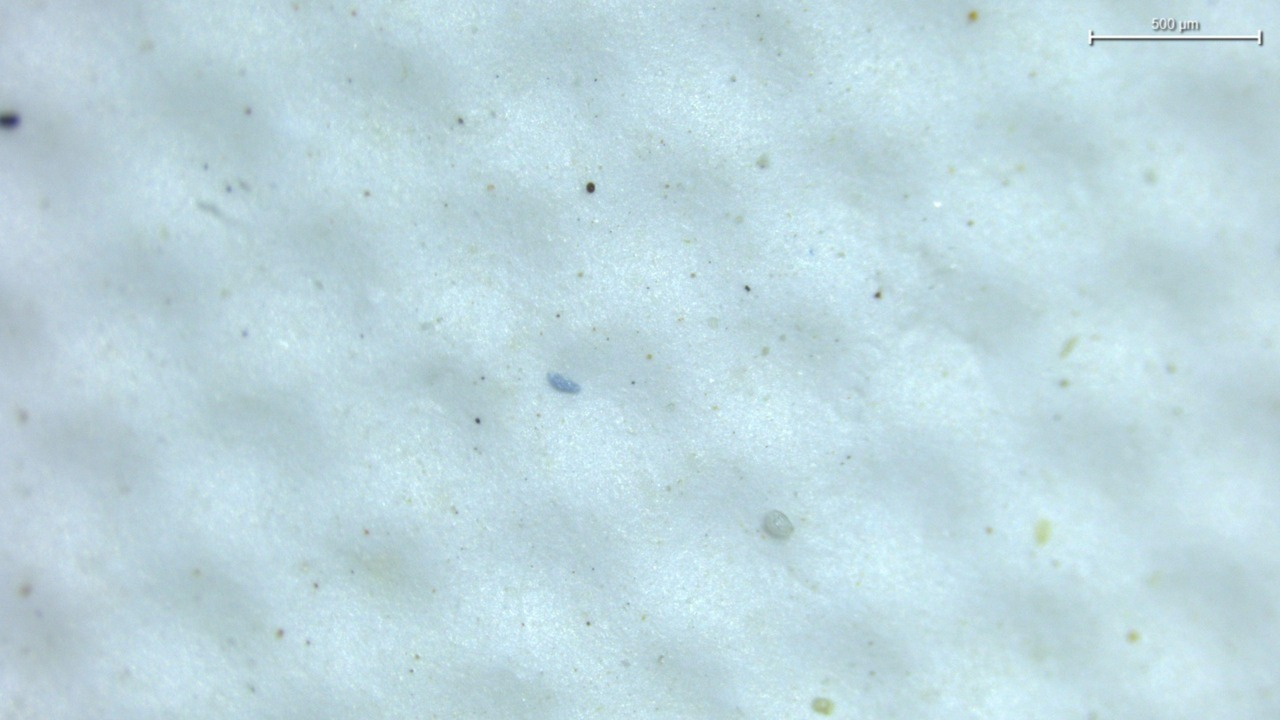microplastic_fragment: (547, 373, 580, 393)
